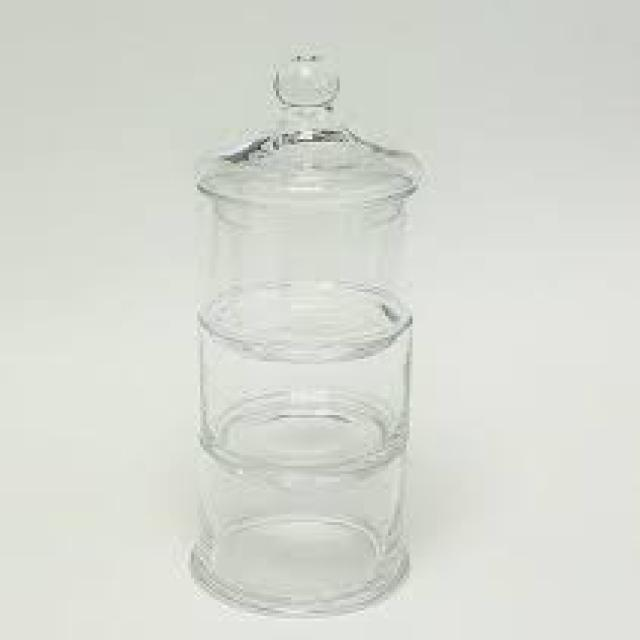glass: (191, 51, 425, 616)
